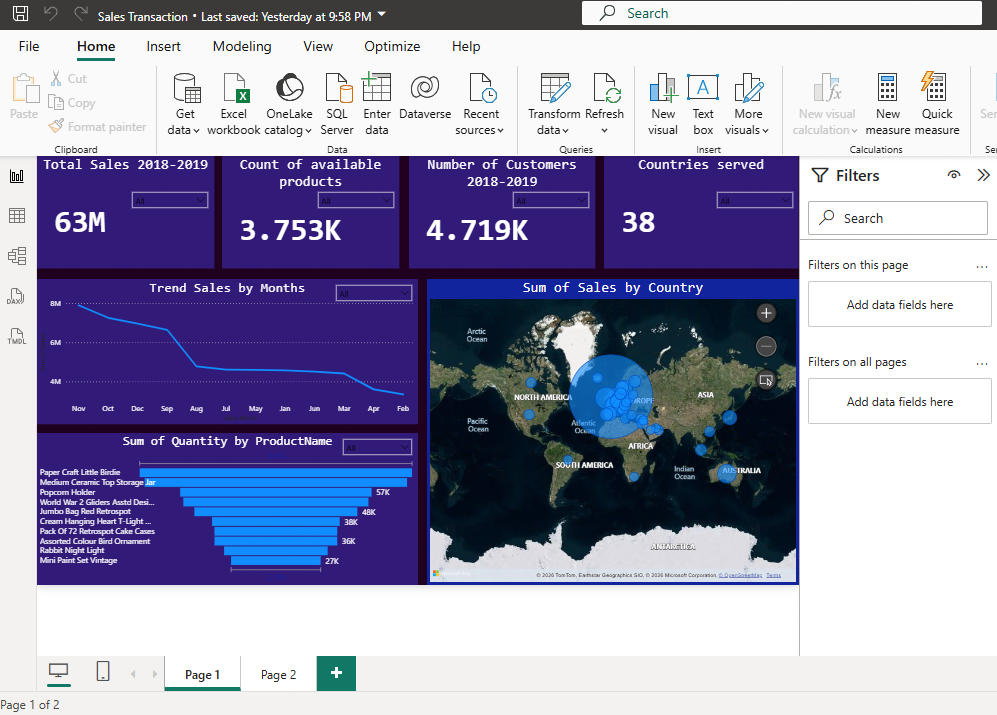

Layout of this report page (visuals, bound fields, positions):
{"tool":"powerbi","page":{"name":"Page 1","canvas":[1280,720],"ordinal":0},"visuals":[{"type":"cardVisual","title":"Total Sales 2018-2019","fields":{"Data":["Sum(Sales clean.Sales)"]},"box":[0,0,298.1,188.6],"z":0},{"type":"cardVisual","title":"Count of available products ","fields":{"Data":["Count(Sales clean.ProductName)"]},"box":[311.6,0,298.1,188.6],"z":1000},{"type":"cardVisual","title":"Number of Customers 2018-2019","fields":{"Data":["Count(Sales clean.CustomerNo)"]},"box":[624.8,0,313.3,188.6],"z":2000},{"type":"cardVisual","title":"Countries served ","fields":{"Data":["Count(Sales clean.Country)"]},"box":[953.3,0,326.7,188.6],"z":3000},{"type":"slicer","fields":{"Values":["Sales clean.Year"]},"box":[149.9,50.5,148.2,60.6],"z":4000},{"type":"slicer","fields":{"Values":["Sales clean.Year"]},"box":[789.9,50.5,148.2,60.6],"z":5000},{"type":"slicer","fields":{"Values":["Sales clean.Country"]},"box":[1131.8,50.5,148.2,60.6],"z":6000},{"type":"slicer","fields":{"Values":["Sales clean.ProductName"]},"box":[461.5,50.5,148.2,60.6],"z":7000},{"type":"lineChart","title":"Trend Sales by Months","fields":{"Y":["Sum(Sales clean.Sales)"],"Category":["Sales clean.Date Month"]},"box":[0,207.2,640,244.2],"z":8000},{"type":"slicer","fields":{"Values":["Sales clean.Year"]},"box":[491.8,207.2,148.2,60.6],"z":9000},{"type":"funnel","fields":{"Category":["Sales clean.ProductName"],"Y":["Sum(Sales clean.Quantity)"]},"box":[0,464.8,640,256],"z":10000},{"type":"slicer","fields":{"Values":["Sales clean.ProductName"]},"box":[503.6,464.8,136.4,58.9],"z":11000},{"type":"map","fields":{"Category":["Sales clean.Country"],"Size":["Sum(Sales clean.Sales)"]},"box":[655.1,206.6,624.9,514],"z":11001}]}

Visuals, with their boxes on the page's 1280x720 design canvas (x1, y1, x2, y2). These are canvas units, not pixel positions in the 997x715 screenshot, which may show the page scaled, cropped or inside an application window:
"Total Sales 2018-2019" cardVisual: pyautogui.locateOnScreen(0, 0, 298, 189)
"Count of available products " cardVisual: pyautogui.locateOnScreen(312, 0, 610, 189)
"Number of Customers 2018-2019" cardVisual: pyautogui.locateOnScreen(625, 0, 938, 189)
"Countries served " cardVisual: pyautogui.locateOnScreen(953, 0, 1280, 189)
slicer - Sales clean.Year: pyautogui.locateOnScreen(150, 50, 298, 111)
slicer - Sales clean.Year: pyautogui.locateOnScreen(790, 50, 938, 111)
slicer - Sales clean.Country: pyautogui.locateOnScreen(1132, 50, 1280, 111)
slicer - Sales clean.ProductName: pyautogui.locateOnScreen(462, 50, 610, 111)
"Trend Sales by Months" lineChart: pyautogui.locateOnScreen(0, 207, 640, 451)
slicer - Sales clean.Year: pyautogui.locateOnScreen(492, 207, 640, 268)
funnel - Sales clean.ProductName x Sum(Sales clean.Quantity): pyautogui.locateOnScreen(0, 465, 640, 721)
slicer - Sales clean.ProductName: pyautogui.locateOnScreen(504, 465, 640, 524)
map - Sales clean.Country x Sum(Sales clean.Sales): pyautogui.locateOnScreen(655, 207, 1280, 721)
